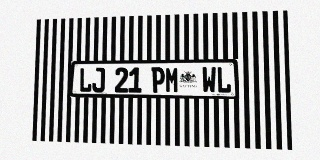1: (128, 67, 142, 93)
2: (115, 67, 128, 92)
J: (92, 67, 105, 92)
L: (216, 66, 231, 93), (79, 68, 92, 92)
M: (165, 67, 179, 93)
P: (151, 67, 165, 93)
W: (202, 67, 216, 93)
